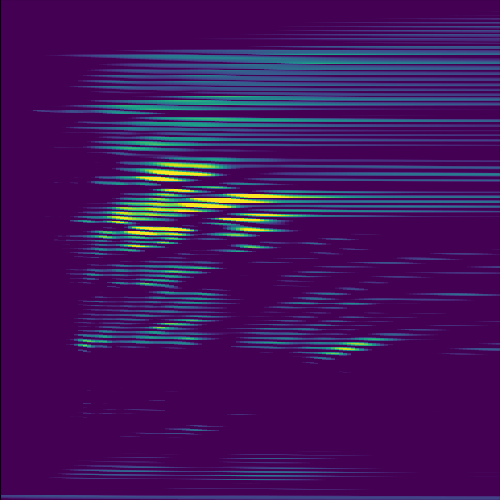semblance: (149, 188, 310, 217), (130, 159, 237, 182), (219, 210, 296, 238)
